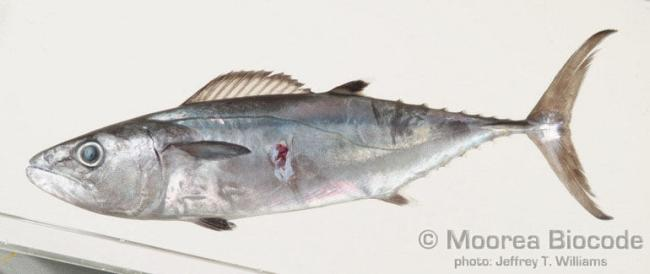fish: (26, 27, 619, 231)
